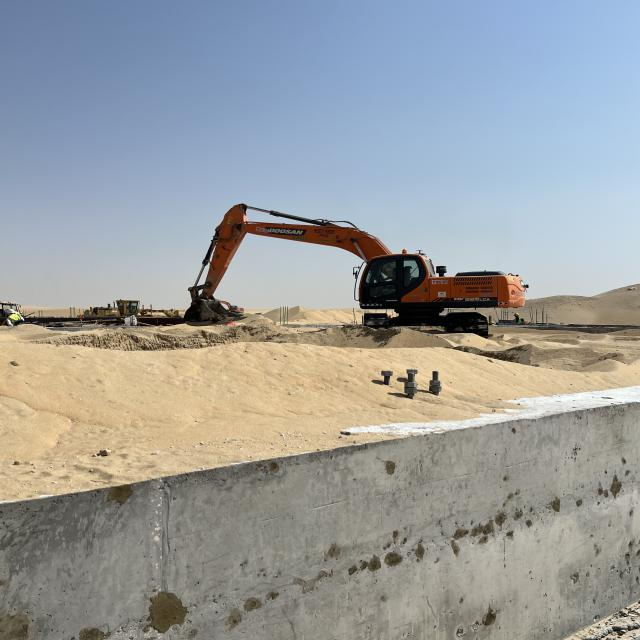excavator: (183, 202, 529, 340)
